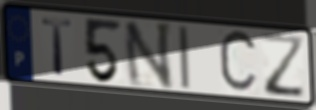5: (81, 15, 124, 84)
C: (216, 27, 260, 98)
I: (176, 25, 192, 91)
N: (121, 21, 175, 91)
T: (40, 16, 75, 78)
Z: (259, 31, 307, 101)
